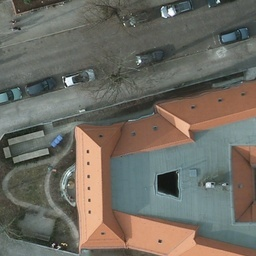car: (122, 7, 149, 31), (25, 77, 55, 96), (63, 69, 94, 86), (161, 0, 191, 17), (219, 27, 249, 43), (136, 48, 165, 62), (206, 0, 236, 7)
